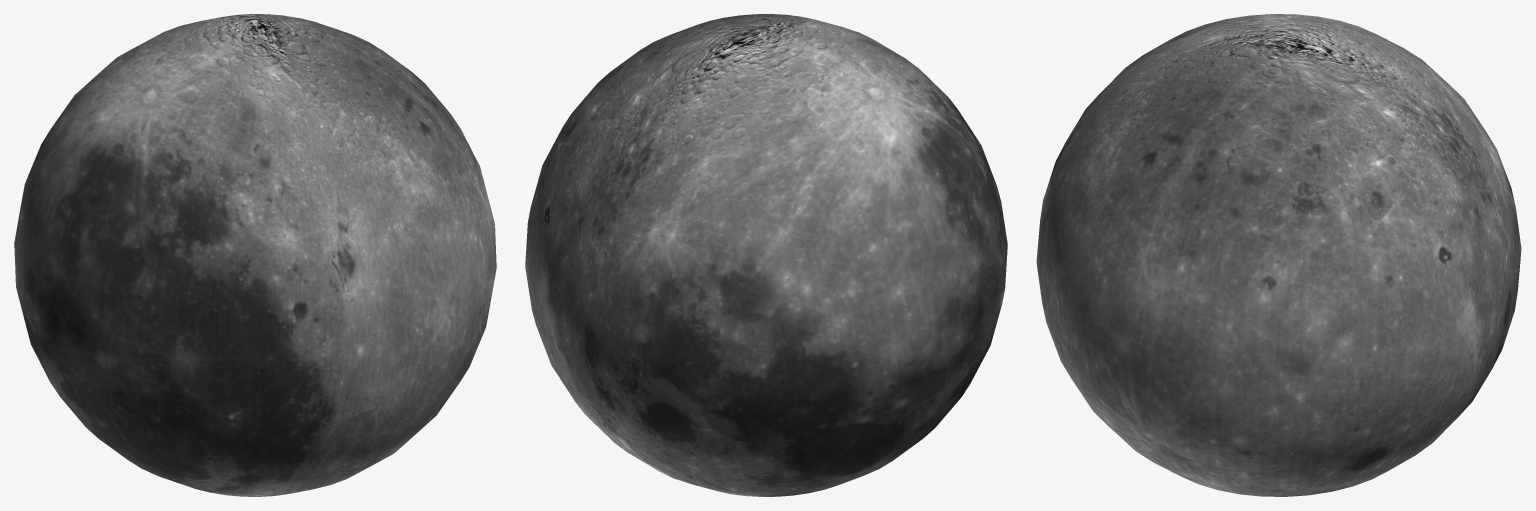
File: moon.gltf
3 views of the same model, side by side, from view 1: azimuth 30°, elevation 25°; view 2: azimuth 150°, elevation 25°; view 3: azimuth 270°, elevation 25° (orthographic).
Parts seen in each view (by area): view 1: moon; view 2: moon; view 3: moon.
Boxes of the visible parts, bbox=[...] form: moon: bbox=[14, 14, 496, 496]; moon: bbox=[525, 14, 1007, 496]; moon: bbox=[1036, 14, 1521, 496].
Size of the model in its own units: 0.5001 by 0.5 by 0.5009.
1 material, 1 textured.
